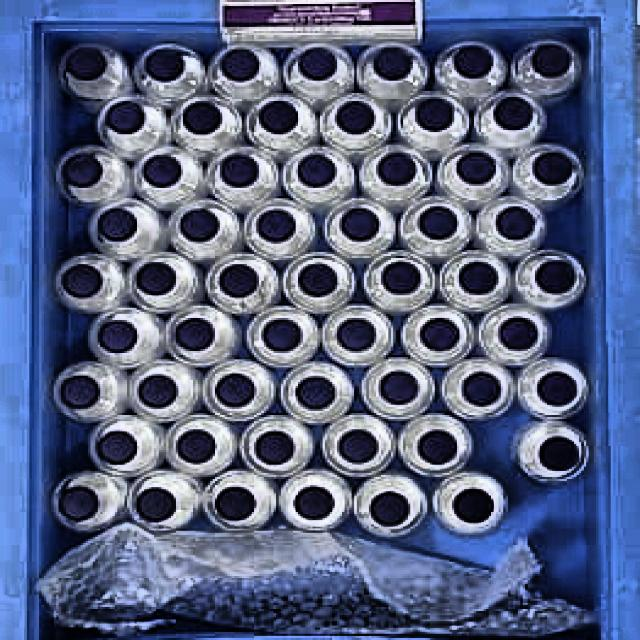vial: (449, 486, 497, 524), (536, 434, 581, 473), (61, 150, 106, 189), (293, 375, 338, 413), (217, 262, 263, 299), (132, 260, 178, 297), (378, 369, 421, 408), (61, 262, 105, 300), (497, 315, 542, 352), (335, 316, 380, 353), (456, 260, 501, 297), (338, 208, 384, 244), (461, 370, 504, 408), (261, 318, 305, 355), (136, 373, 180, 410), (254, 207, 298, 244), (296, 262, 340, 299), (535, 370, 580, 406), (534, 259, 579, 295), (179, 207, 224, 243), (418, 427, 458, 467), (337, 428, 379, 466), (219, 151, 261, 189), (173, 316, 216, 353), (379, 260, 422, 297), (495, 205, 538, 242), (55, 486, 99, 522), (417, 316, 461, 352), (96, 207, 140, 243), (531, 150, 575, 186), (94, 319, 139, 354), (214, 372, 257, 408), (141, 154, 184, 190), (375, 151, 418, 187), (416, 206, 460, 241), (255, 429, 296, 466), (372, 44, 413, 81), (214, 485, 256, 521), (177, 428, 219, 464), (369, 490, 411, 526), (297, 154, 340, 189), (257, 100, 300, 135), (530, 43, 573, 78), (297, 47, 340, 82), (455, 151, 499, 185), (138, 486, 178, 523), (60, 374, 102, 409), (492, 96, 534, 131), (292, 487, 335, 521), (65, 47, 108, 81), (454, 43, 495, 78), (96, 430, 138, 464), (335, 101, 377, 135), (103, 100, 146, 133), (415, 97, 454, 133), (183, 101, 224, 135), (145, 48, 186, 81), (220, 47, 260, 80)
